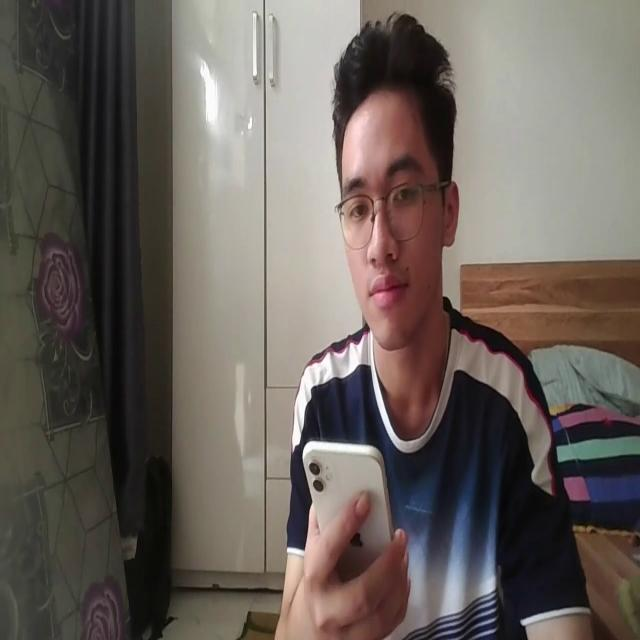phone: (298, 427, 396, 580)
student: (274, 2, 592, 640)
